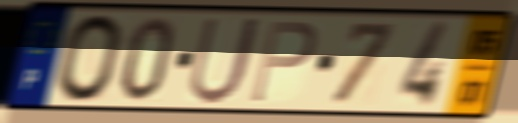0: (119, 14, 178, 106)
4: (394, 18, 452, 113)
7: (329, 20, 398, 108)
O: (53, 12, 127, 106)
P: (247, 18, 320, 106)
U: (184, 14, 265, 108)
